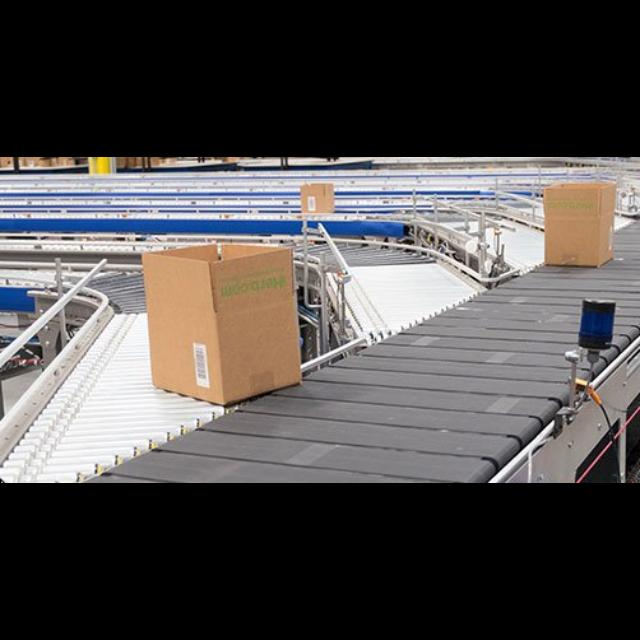box: (138, 242, 304, 406), (544, 182, 614, 268), (302, 182, 334, 212)
